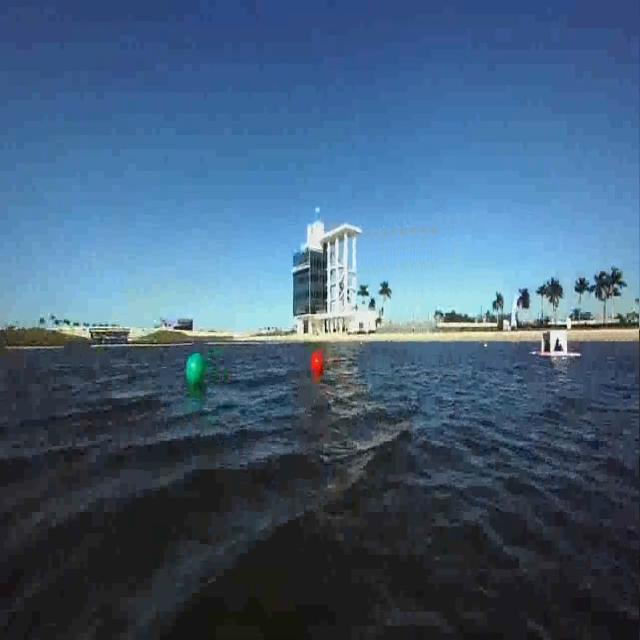green-buoy: (184, 353, 206, 388)
red-buoy: (312, 350, 324, 371)
